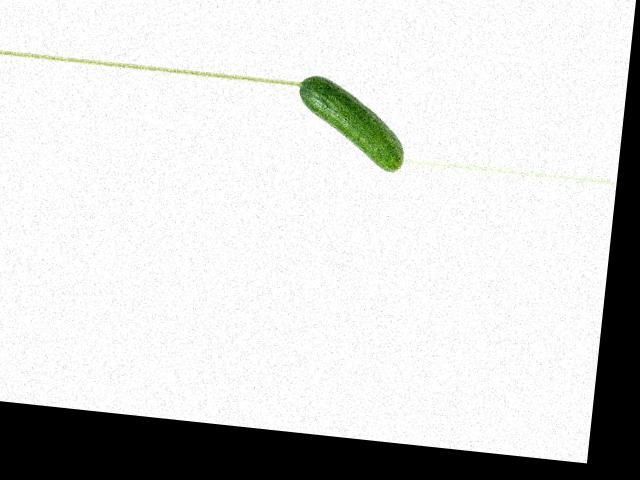cucumber: (290, 73, 411, 172)
